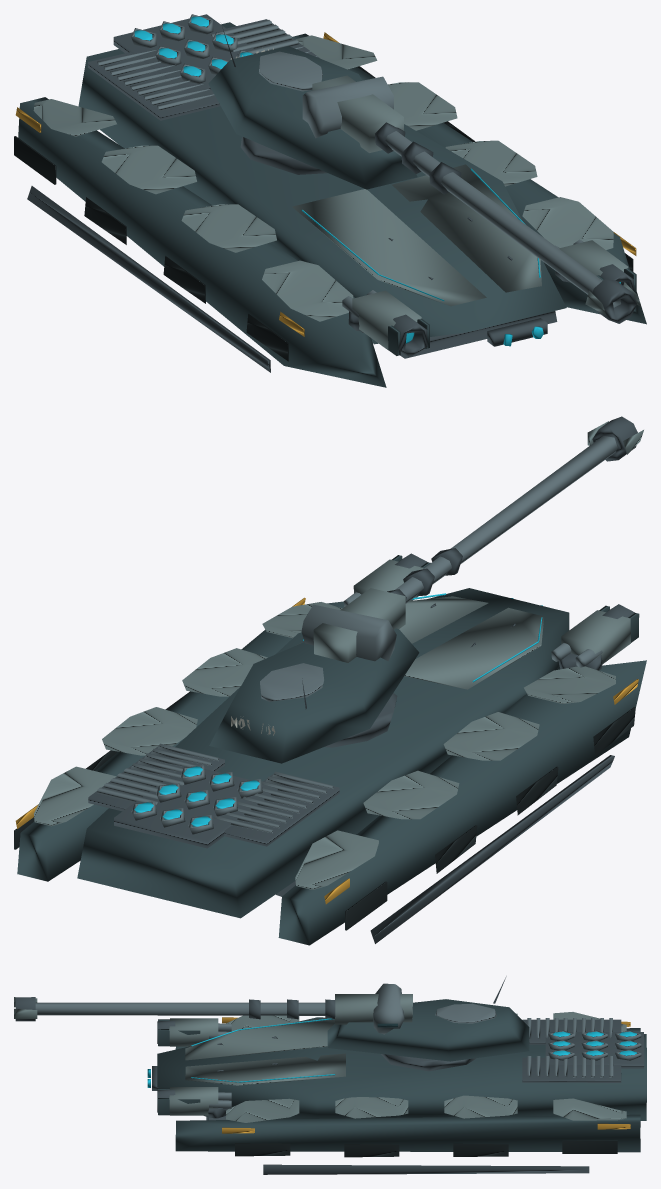
The model's file is mork_d0.glb.
3 views of the same model, one above another, from view 1: azimuth 30°, elevation 25°; view 2: azimuth 150°, elevation 25°; view 3: azimuth 270°, elevation 25° (orthographic). The views are drawn at different scales.
Parts seen in each view (by area): view 1: MORK_CUSTOM_DISTANCE; view 2: MORK_CUSTOM_DISTANCE; view 3: MORK_CUSTOM_DISTANCE.
Part boxes in pixels (bbox=[...]): MORK_CUSTOM_DISTANCE: bbox=[14, 14, 646, 387]; MORK_CUSTOM_DISTANCE: bbox=[14, 416, 646, 945]; MORK_CUSTOM_DISTANCE: bbox=[14, 976, 646, 1174].
Size of the model in its own units: 5.81 by 3 by 13.26.
